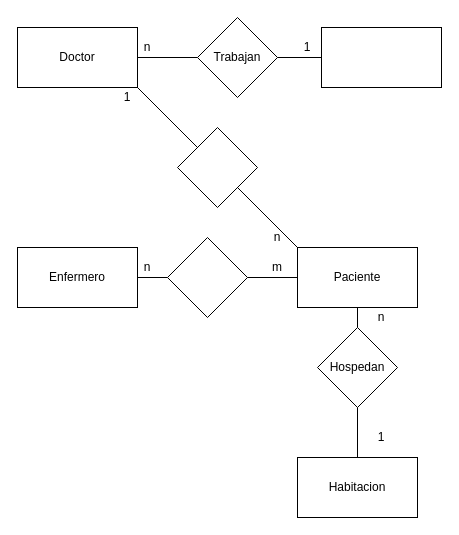
This 459x535 diagram has some shape labels left out. Here are the shapes that lost their labels. From the top down, the centre of each, then its label:
At [381,57]: "Departamento".
At [217,167]: "Tratan".
At [207,277]: "Cuidan".
